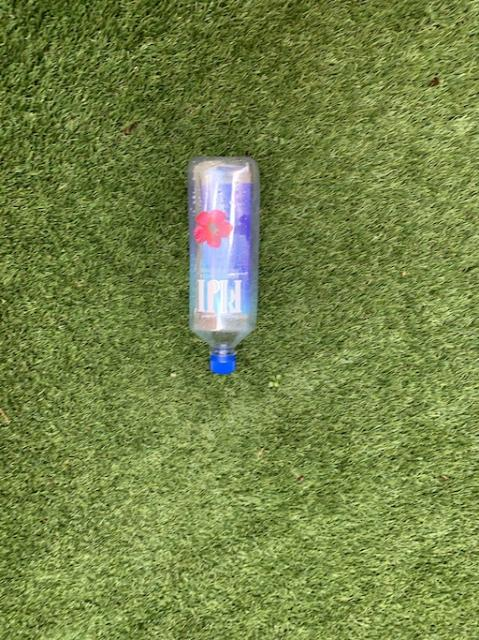plastic: (187, 156, 259, 372)
